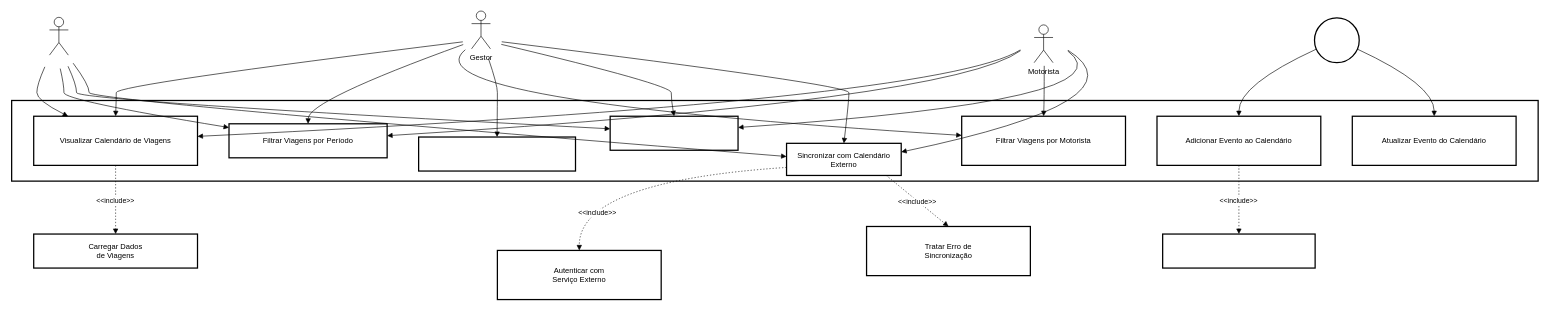
This 1549x311 diagram has some shape labels left out. The centre of each missing label's shape, as x and y in pixels:
Exportar Calendário: [673,133]
Filtrar Viagens por Veículo: [497,153]
Sistema: [1337,40]
Solicitante: [58,36]
Validar Dados do Evento: [1238,250]
